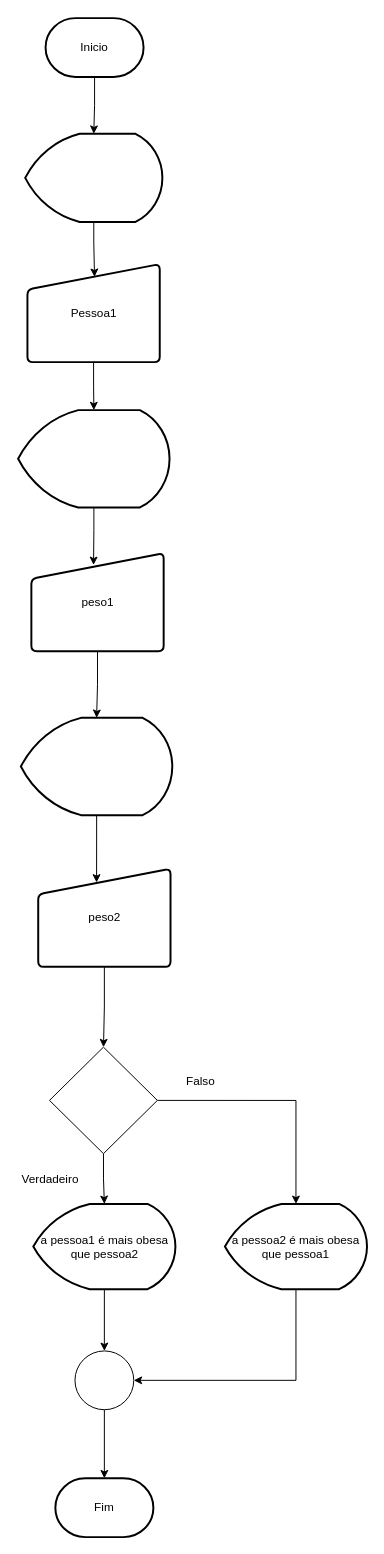
Image size: 384x1554. Some labels were removed from this diagram. Each missing label, with the centre of its shape:
Digite o nome da Primeira pessoa: (93,177)
Digite o Peso da primeira pessoa: (93,458)
Digite o Peso da segunda pessoa: (96,766)
peso1 > 2: (103,1100)
